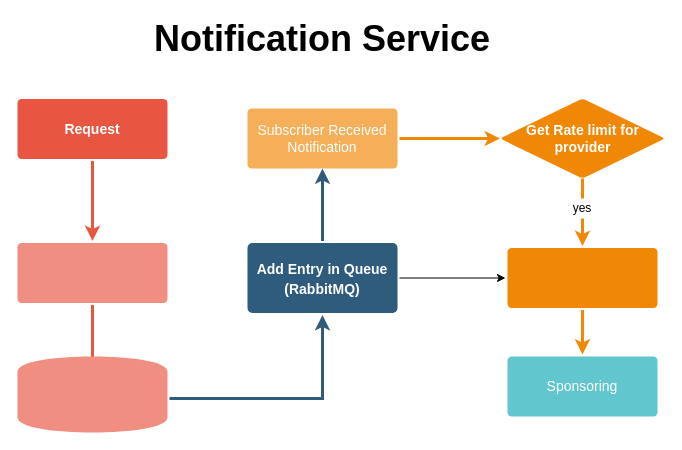
Some shapes in this 682 by 450 pixel diagram are drawn without their labels. The centre of each missing label's shape, as x and y in pixels:
Add Entries into DB (PostgressSQL): point 92,394
Send Notification: point 582,278
Validate Request: point 92,272
